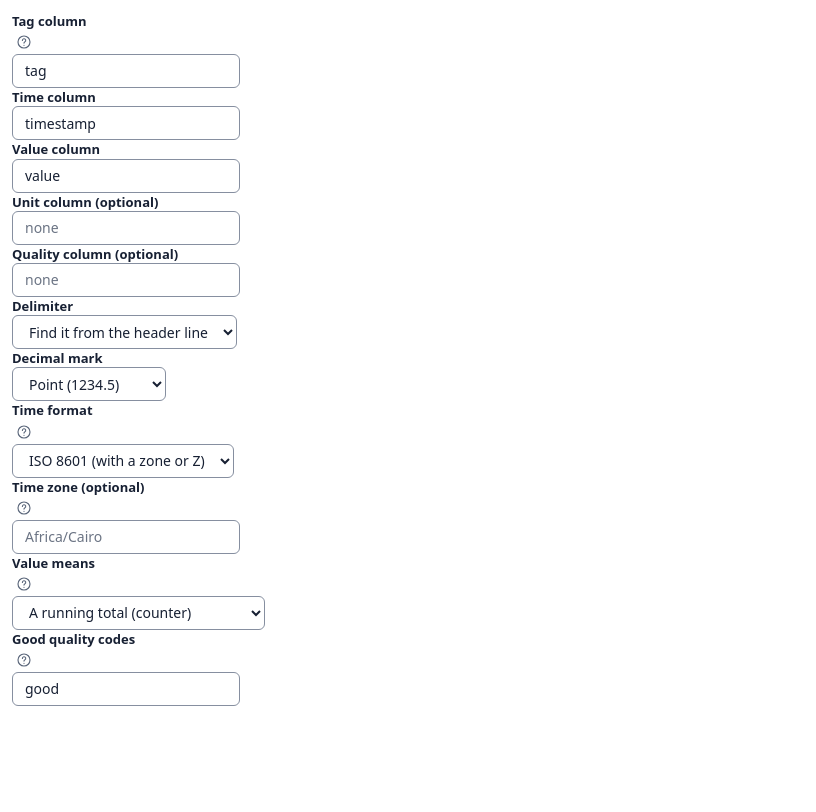
Test: ImportProfileFields › shows the custom pattern box, with the hint listing the allowed directives, only for Custom
The image size is (816, 812).
Expected: the field labelled "Custom time format" is not shown
Select "Custom" in the dropdown labelled "Time format". click: (123, 460)
box: [12,444,234,478]
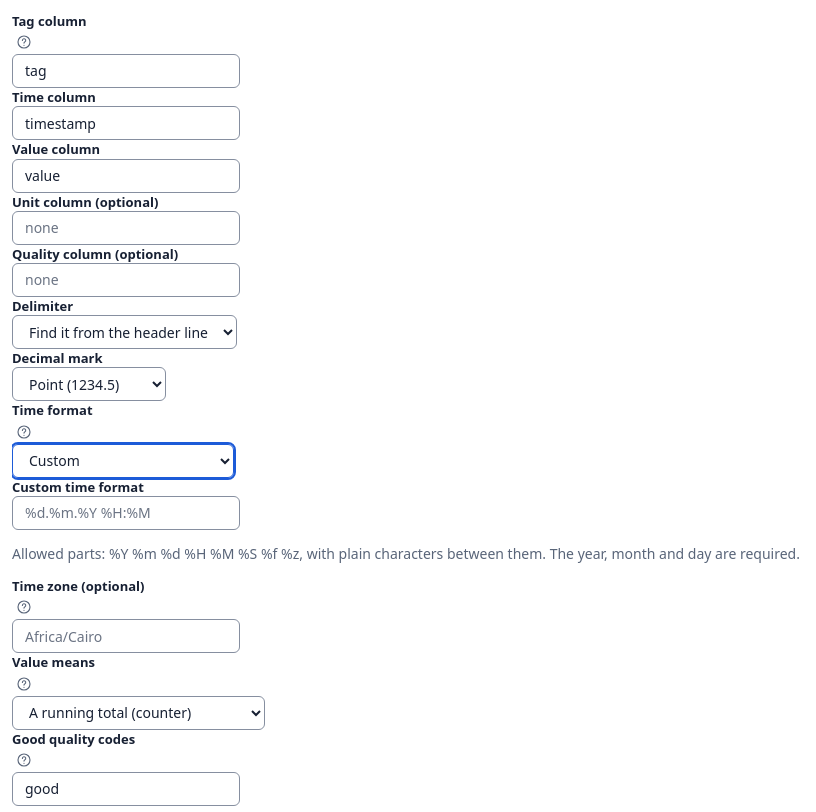
Select "Seconds since 1970" in the dropdown labelled "Time format". click: (123, 460)
box: [12,444,234,478]
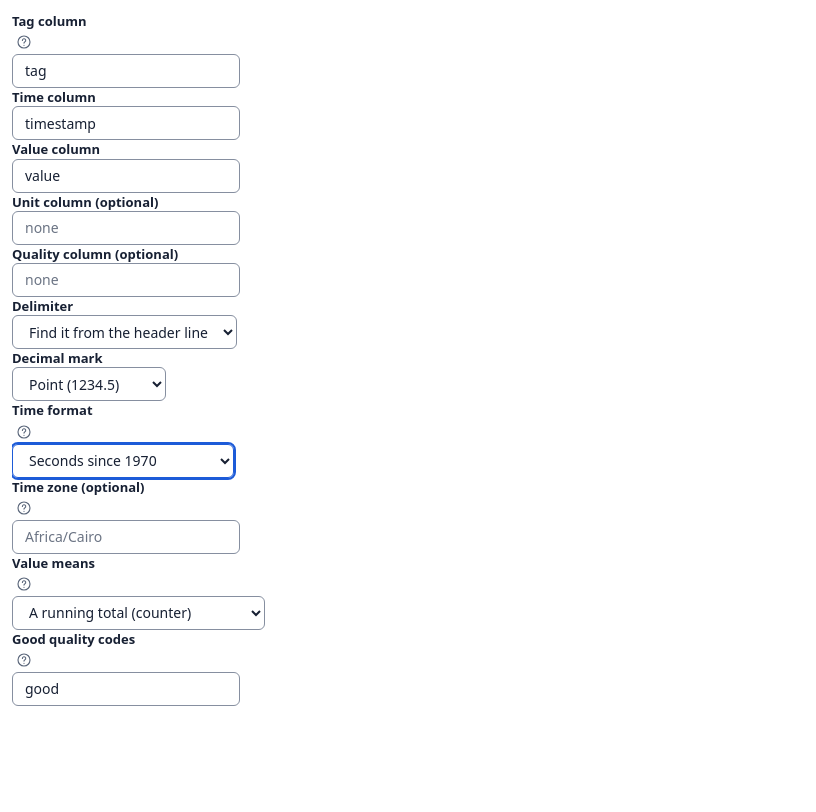
Expected: the label labelled "Custom time format" is gone
